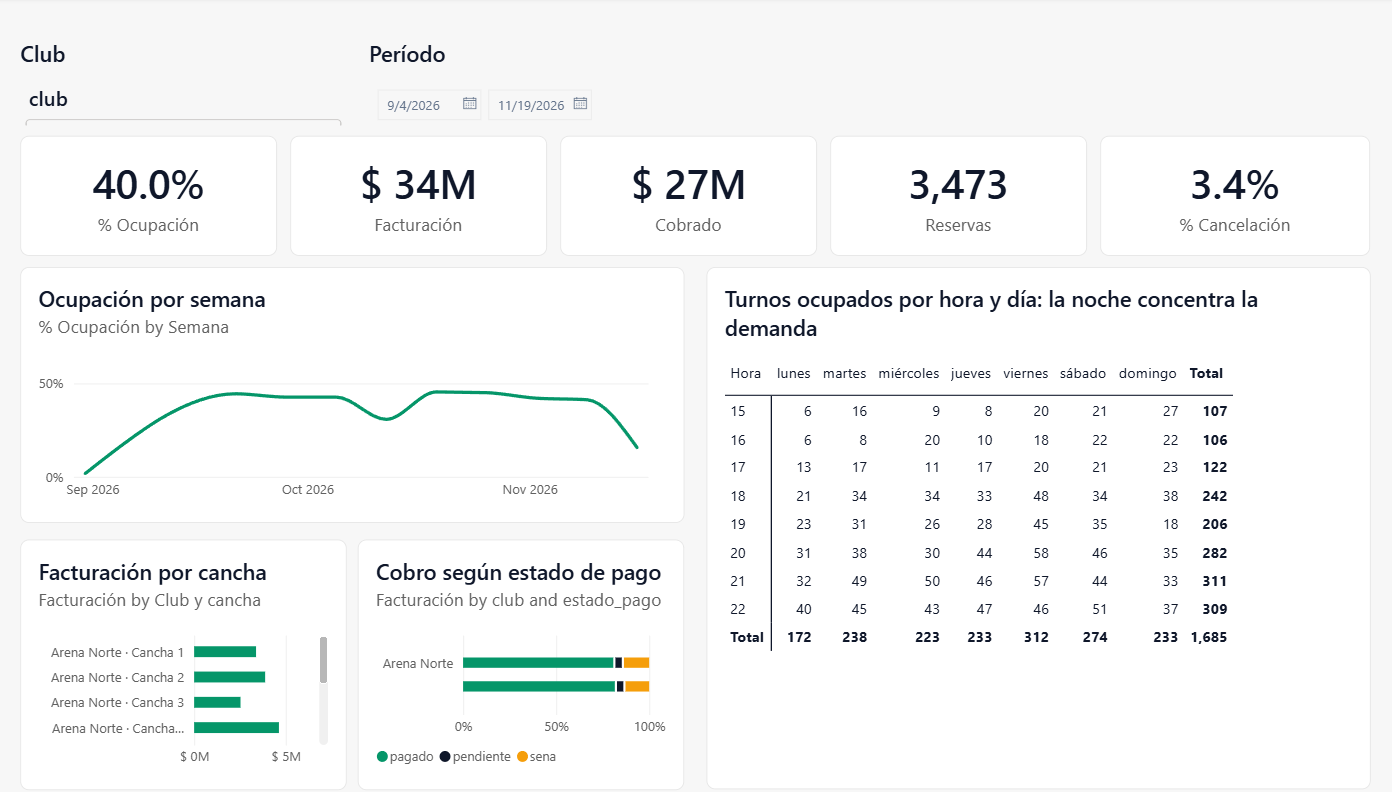

Layout of this report page (visuals, bound fields, positions):
{"tool":"powerbi","page":{"name":"Resumen del club","canvas":[1280,720],"ordinal":0},"visuals":[{"type":"slicer","title":"Club","fields":{"Values":["bi_turnos.club"]},"box":[20,15,300,80],"z":0},{"type":"slicer","title":"Período","fields":{"Values":["Calendario.Date"]},"box":[340,15,420,80],"z":1000},{"type":"card","fields":{"Values":["bi_turnos.% Ocupación"]},"box":[20,105,236,110],"z":2000},{"type":"card","fields":{"Values":["bi_reservas.Facturación"]},"box":[268,105,236,110],"z":3000},{"type":"card","fields":{"Values":["bi_reservas.Cobrado"]},"box":[516,105,236,110],"z":4000},{"type":"card","fields":{"Values":["bi_reservas.Reservas"]},"box":[764,105,236,110],"z":5000},{"type":"card","fields":{"Values":["bi_reservas.% Cancelación"]},"box":[1012,105,248,110],"z":6000},{"type":"lineChart","title":"Ocupación por semana","fields":{"Category":["Calendario.Semana"],"Y":["bi_turnos.% Ocupación"]},"box":[20,225,610,235],"z":7000},{"type":"pivotTable","title":"Turnos ocupados por hora y día: la noche concentra la demanda","fields":{"Columns":["Calendario.Día de la semana"],"Rows":["bi_turnos.Hora"],"Values":["bi_turnos.Turnos ocupados"]},"box":[650,225,610,480],"z":8000},{"type":"clusteredBarChart","title":"Facturación por cancha","fields":{"Category":["bi_turnos.Club y cancha"],"Y":["bi_reservas.Facturación"]},"box":[20,475,300,230],"z":9000},{"type":"hundredPercentStackedBarChart","title":"Cobro según estado de pago","fields":{"Category":["bi_turnos.club"],"Series":["bi_reservas.estado_pago"],"Y":["bi_reservas.Facturación"]},"box":[330,475,300,230],"z":10000}]}

Visuals, with their boxes in screenshot pixels (x1, y1, x2, y2), scaled from the page's 1280x720 canvas onto the 1392x792 screenshot:
"Club" slicer: bbox(22, 16, 348, 105)
"Período" slicer: bbox(370, 16, 826, 105)
card - bi_turnos.% Ocupación: bbox(22, 116, 278, 237)
card - bi_reservas.Facturación: bbox(291, 116, 548, 237)
card - bi_reservas.Cobrado: bbox(561, 116, 818, 237)
card - bi_reservas.Reservas: bbox(831, 116, 1088, 237)
card - bi_reservas.% Cancelación: bbox(1101, 116, 1370, 237)
"Ocupación por semana" lineChart: bbox(22, 248, 685, 506)
"Turnos ocupados por hora y día: la noche concentra la demanda" pivotTable: bbox(707, 248, 1370, 776)
"Facturación por cancha" clusteredBarChart: bbox(22, 522, 348, 776)
"Cobro según estado de pago" hundredPercentStackedBarChart: bbox(359, 522, 685, 776)
